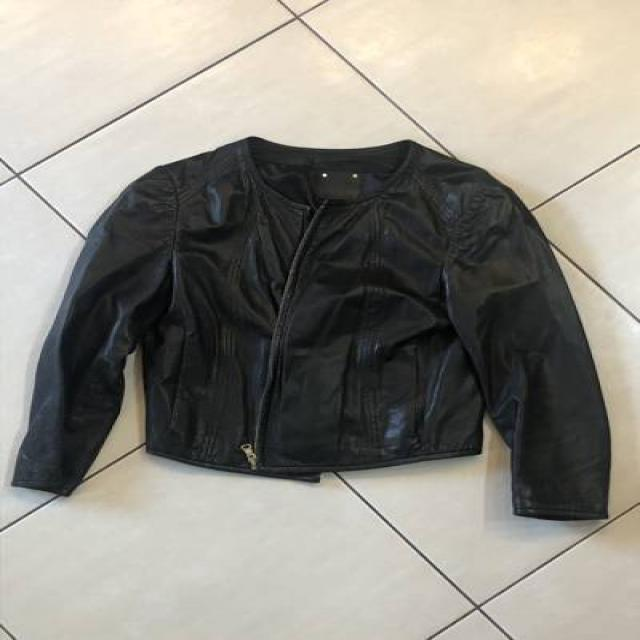Clothes -Biodegradable-: (8, 138, 609, 519)
